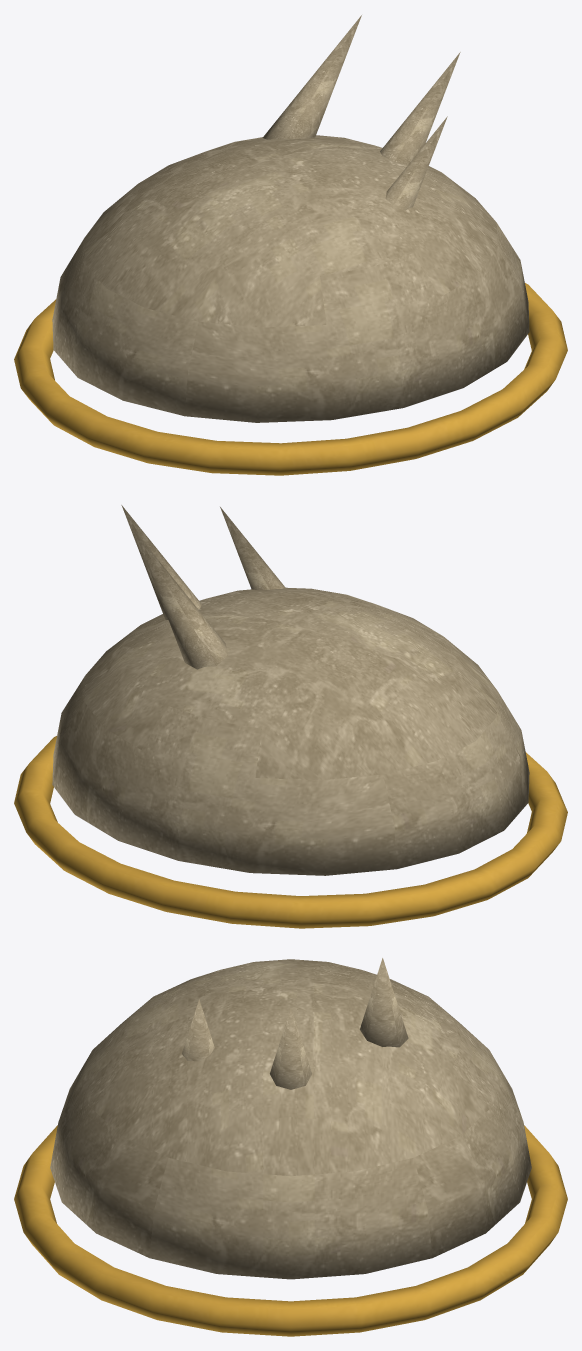
File: hm_king_pauldron_left.glb
The picture shows the model from 3 angles, top to bottom: view 1: azimuth 30°, elevation 25°; view 2: azimuth 150°, elevation 25°; view 3: azimuth 270°, elevation 25°; orthographic projection. The views are drawn at different scales.
Parts seen in each view (by area): view 1: king_pauldron_left; view 2: king_pauldron_left; view 3: king_pauldron_left.
Part boxes in pixels (bbox=[...]): king_pauldron_left: bbox=[14, 15, 567, 475]; king_pauldron_left: bbox=[14, 505, 567, 928]; king_pauldron_left: bbox=[14, 958, 567, 1336].
Bounding box in the file's own units: 0.529 × 0.3031 × 0.483.
1 material, 1 textured.
